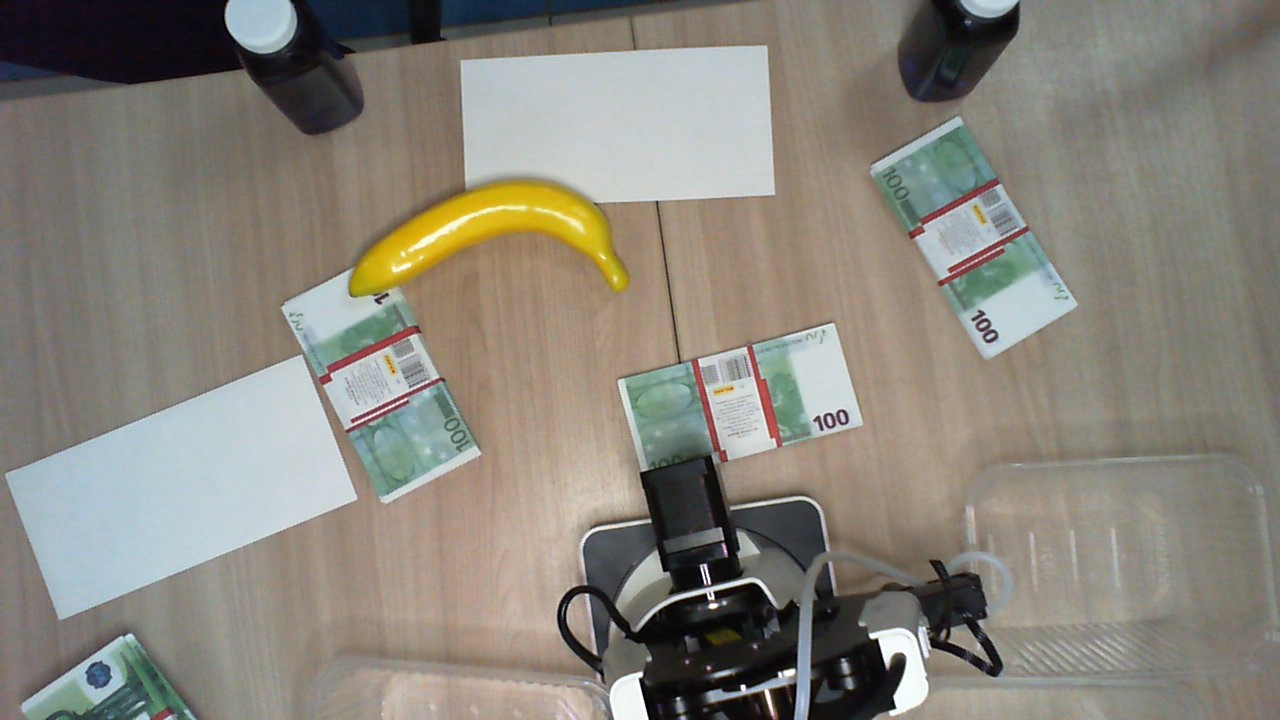banana: (348, 178, 631, 300)
bottle: (224, 1, 316, 80), (921, 1, 1018, 40)
convert: (4, 355, 359, 623), (456, 42, 775, 209)
money: (283, 260, 486, 500), (874, 117, 1078, 355), (614, 319, 861, 491), (19, 634, 205, 720)
